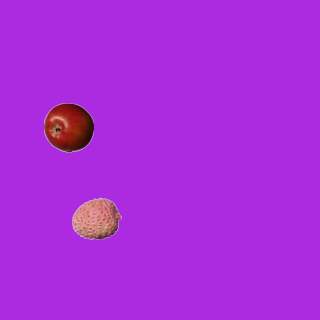Apple Braeburn: (43, 102, 93, 152)
Lychee: (71, 193, 121, 243)
